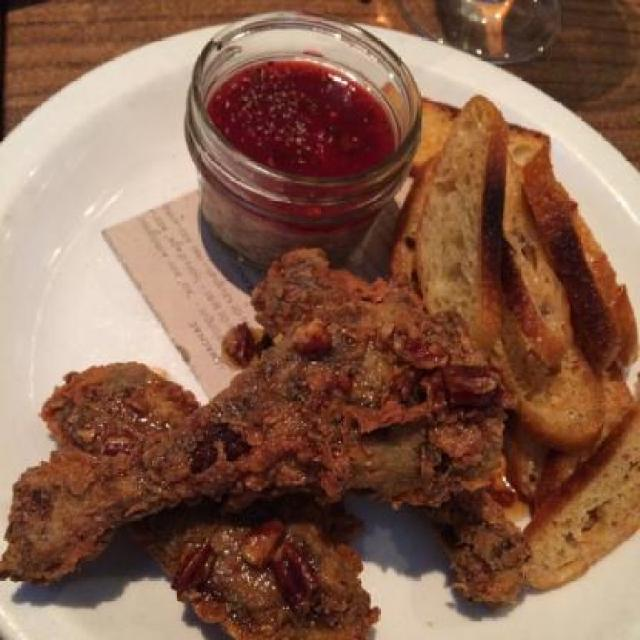Bread: (416, 91, 639, 591)
